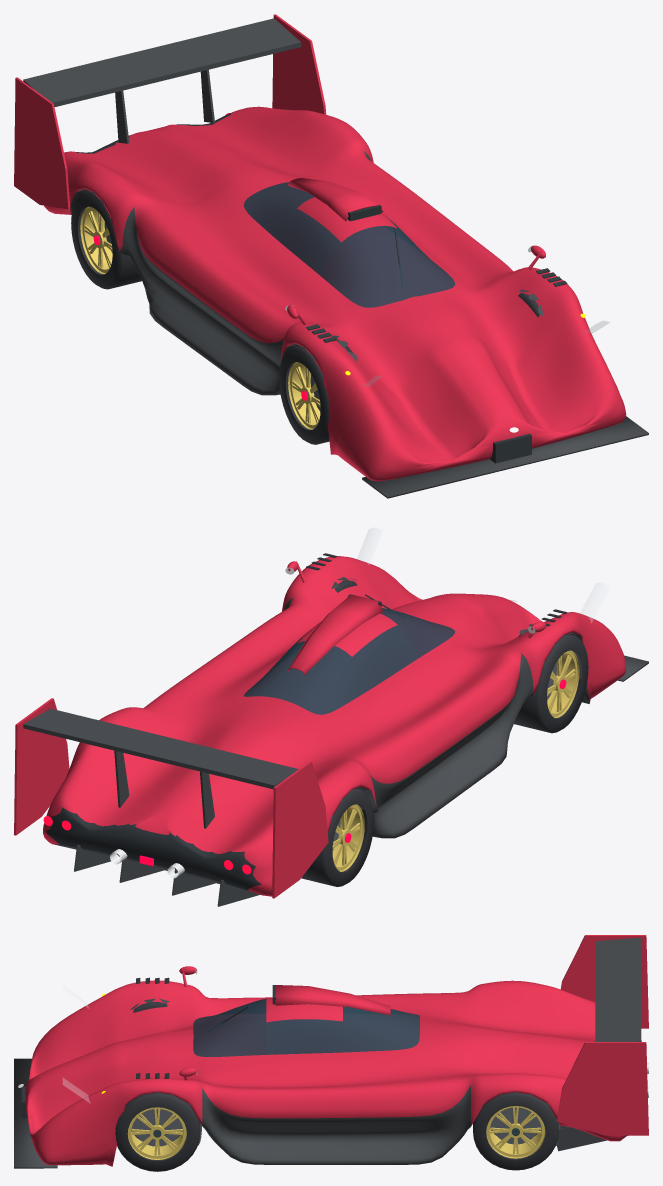
The model's file is toyota_gt_one_1998.glb.
The picture shows the model from 3 angles, top to bottom: view 1: azimuth 30°, elevation 25°; view 2: azimuth 150°, elevation 25°; view 3: azimuth 270°, elevation 25°; orthographic projection. The views are drawn at different scales.
Parts seen in each view (by area): view 1: Toyota_GT_One_Body, Cockpit_Canopy, Rear_Wing_Airfoil, Rear_Wing_Endplate, Front_Splitter_Tray, wheel_rear_left_tire, wheel_front_left_tire, Roof_Scoop, Wing_Pylon, Nose_Throat, wheel_rear_left_barrel, wheel_front_left_barrel; view 2: Toyota_GT_One_Body, Rear_Wing_Endplate, Cockpit_Canopy, Rear_Wing_Airfoil, wheel_front_left_tire, Roof_Scoop, wheel_rear_left_tire, Wing_Pylon, wheel_rear_left_barrel, wheel_front_left_barrel, wheel_front_left, wheel_rear_left (+2 smaller); view 3: Toyota_GT_One_Body, Cockpit_Canopy, Rear_Wing_Endplate, Rear_Wing_Airfoil, wheel_front_right_tire, wheel_rear_right_tire, Roof_Scoop, Front_Splitter_Tray, wheel_front_right_rotor, wheel_rear_right_rotor, wheel_rear_right, wheel_front_right (+5 smaller).
Part boxes in pixels (x1,y1,x2,y2): Toyota_GT_One_Body: (44, 106, 626, 481); Cockpit_Canopy: (243, 182, 455, 307); Rear_Wing_Airfoil: (23, 18, 301, 106); Rear_Wing_Endplate: (14, 14, 326, 209); Front_Splitter_Tray: (362, 416, 648, 498); wheel_rear_left_tire: (71, 190, 141, 289); wheel_front_left_tire: (279, 339, 352, 444); Roof_Scoop: (288, 178, 383, 221); Wing_Pylon: (115, 69, 214, 143); Nose_Throat: (490, 433, 531, 463); wheel_rear_left_barrel: (80, 206, 112, 274); wheel_front_left_barrel: (288, 362, 320, 429); Toyota_GT_One_Body: (43, 556, 626, 896); Rear_Wing_Endplate: (14, 698, 328, 898); Cockpit_Canopy: (243, 608, 455, 714); Rear_Wing_Airfoil: (23, 708, 298, 789); wheel_front_left_tire: (514, 634, 588, 733); Roof_Scoop: (288, 595, 383, 674); wheel_rear_left_tire: (301, 788, 373, 886); Wing_Pylon: (114, 750, 214, 828); wheel_rear_left_barrel: (332, 804, 364, 871); wheel_front_left_barrel: (547, 650, 579, 718); wheel_front_left: (547, 655, 575, 711); wheel_rear_left: (332, 808, 360, 865); Toyota_GT_One_Body: (25, 980, 641, 1166); Cockpit_Canopy: (193, 997, 419, 1056); Rear_Wing_Endplate: (556, 935, 648, 1135); Rear_Wing_Airfoil: (595, 937, 641, 1041); wheel_front_right_tire: (115, 1092, 200, 1171); wheel_rear_right_tire: (473, 1092, 558, 1170); Roof_Scoop: (275, 985, 390, 1015); Front_Splitter_Tray: (14, 1058, 57, 1168); wheel_front_right_rotor: (133, 1109, 180, 1146); wheel_rear_right_rotor: (492, 1107, 539, 1144); wheel_rear_right: (490, 1107, 541, 1153); wheel_front_right: (131, 1109, 182, 1155).
Bounding box in the file's own units: 2 × 1.14 × 4.96.
